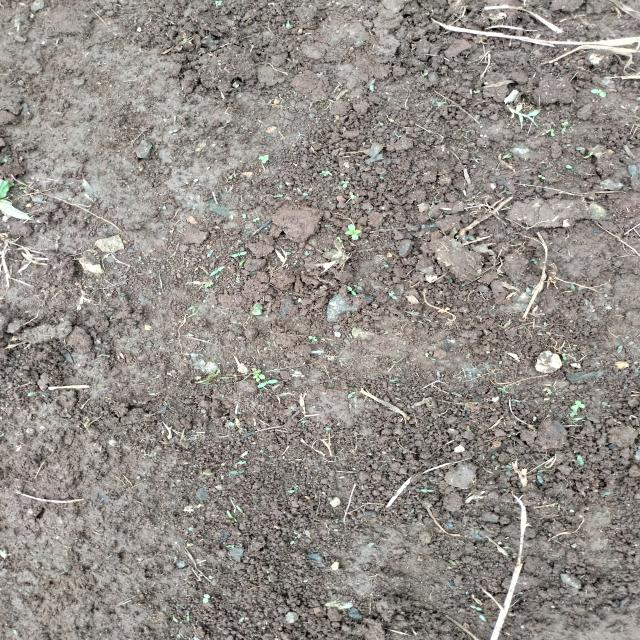bayi: (344, 222, 362, 241), (570, 398, 586, 418), (590, 86, 609, 100), (257, 377, 280, 388), (208, 264, 228, 276), (578, 452, 588, 471), (200, 592, 214, 604), (258, 152, 273, 163), (534, 473, 547, 485), (296, 186, 309, 198), (231, 249, 247, 258), (580, 151, 596, 160), (522, 285, 534, 296), (434, 370, 443, 384), (418, 488, 436, 495), (204, 248, 215, 259), (346, 284, 356, 296), (202, 281, 216, 289), (614, 343, 624, 354), (535, 172, 547, 181), (305, 334, 318, 342), (388, 290, 398, 300), (341, 178, 350, 189), (562, 164, 574, 172), (559, 352, 569, 361), (346, 390, 356, 399), (544, 388, 555, 396), (272, 193, 286, 199), (319, 170, 330, 177), (335, 235, 344, 243), (248, 368, 262, 373), (560, 127, 568, 135), (285, 18, 291, 28), (560, 120, 570, 126), (549, 127, 555, 137), (326, 197, 333, 205), (252, 216, 260, 223), (214, 0, 223, 6), (242, 211, 247, 219)
rambat atas: (504, 103, 542, 129)
